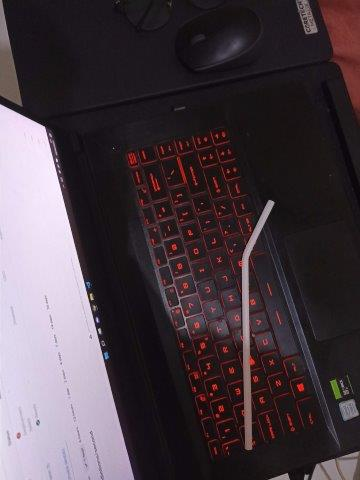sedotan: (242, 200, 275, 449)
